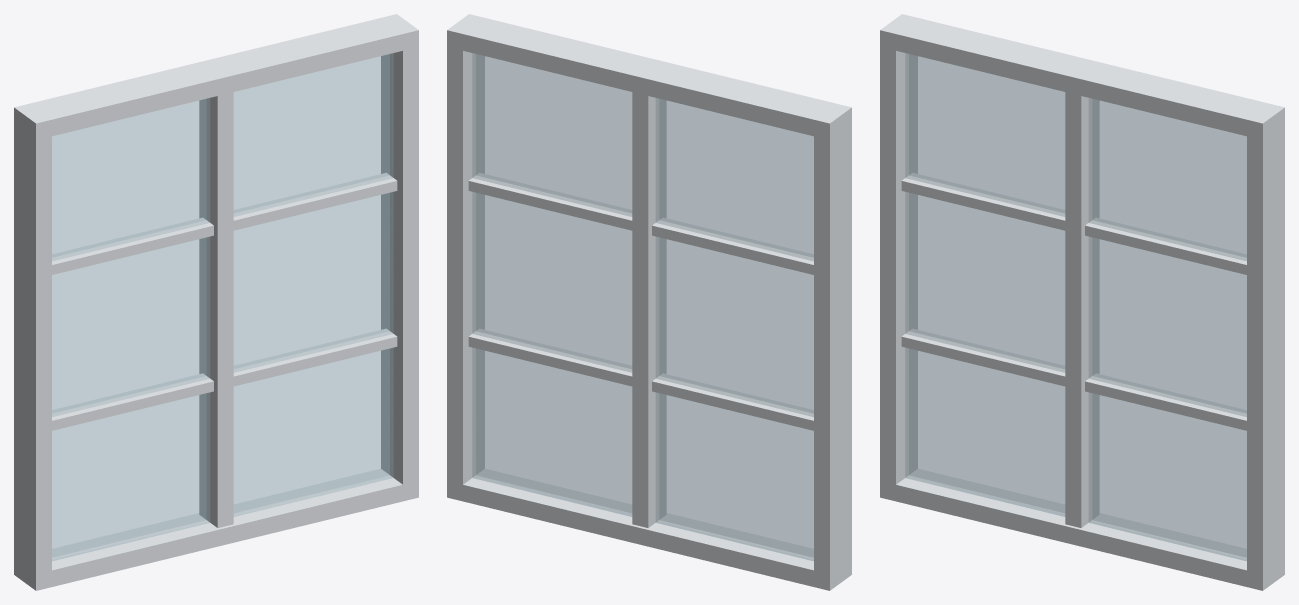
The picture shows the model from 3 angles, left to right: view 1: azimuth 30°, elevation 25°; view 2: azimuth 150°, elevation 25°; view 3: azimuth 330°, elevation 25°; orthographic projection.
Parts seen in each view (by area): view 1: glass, frame (×7); view 2: glass, frame (×7); view 3: glass, frame (×7).
Part boxes in pixels (x1=…): glass: x1=52, y1=53, x2=393, y2=561; frame (×7): x1=14, y1=14, x2=418, y2=590; glass: x1=472, y1=53, x2=813, y2=561; frame (×7): x1=447, y1=14, x2=851, y2=590; glass: x1=905, y1=53, x2=1246, y2=561; frame (×7): x1=880, y1=14, x2=1284, y2=590.
Bounding box in the file's own units: 1.2 × 1.4 × 0.12.
